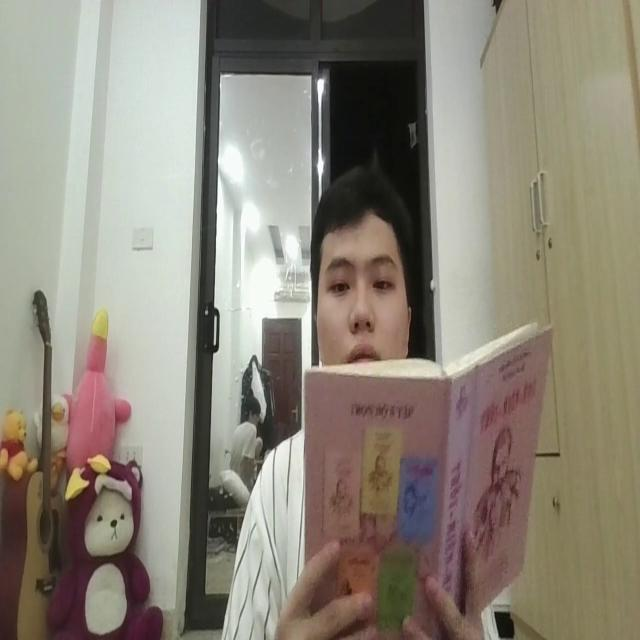book: (306, 318, 550, 620)
student: (306, 158, 416, 367)
